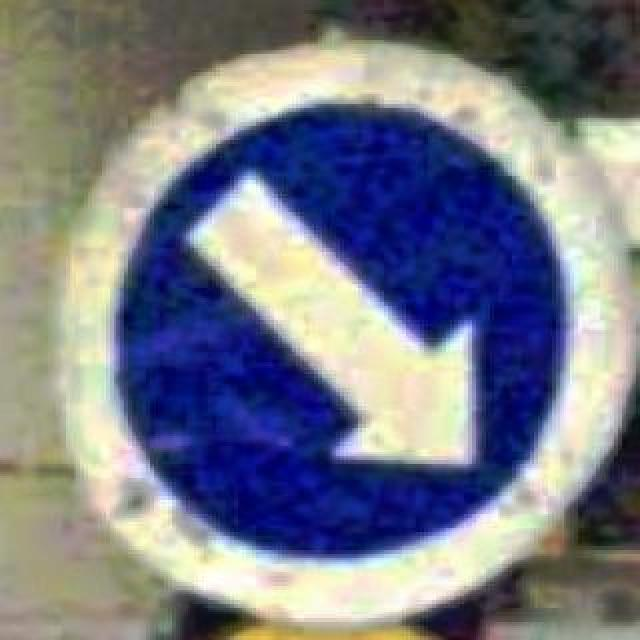keep right: (44, 36, 636, 636)
